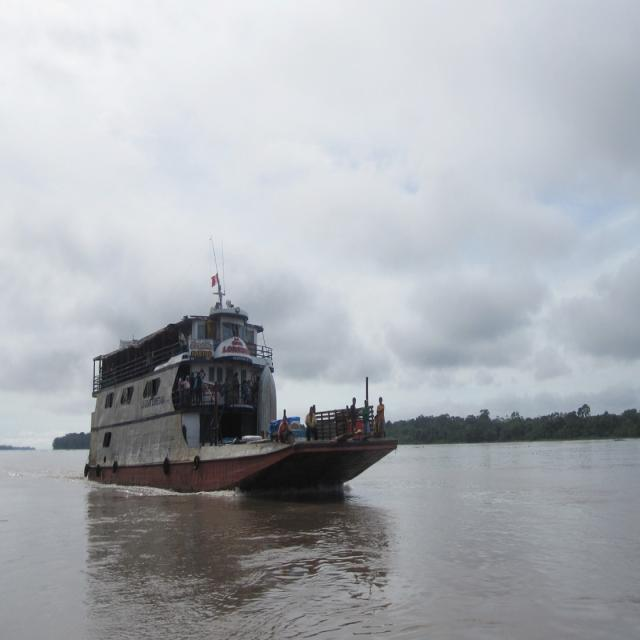houseboat: (85, 282, 395, 504)
